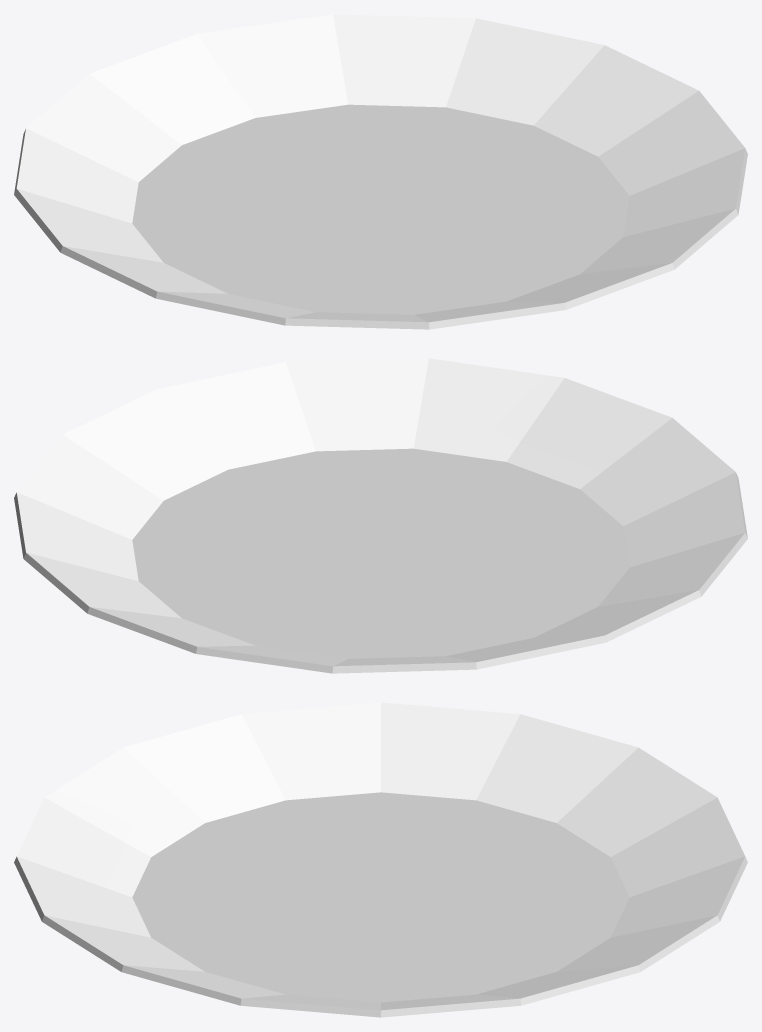
Rendered from plate.fbx.
3 renders of one model, top to bottom at view 1: azimuth 30°, elevation 25°; view 2: azimuth 150°, elevation 25°; view 3: azimuth 270°, elevation 25°, orthographic.
Visible parts, largest first — view 1: Circle; view 2: Circle; view 3: Circle.
Part boxes in pixels (x1,y1,x2,y2): Circle: (14, 14, 747, 329); Circle: (14, 358, 747, 673); Circle: (14, 702, 747, 1017).
Size of the model in its own units: 148 by 10.57 by 148.
